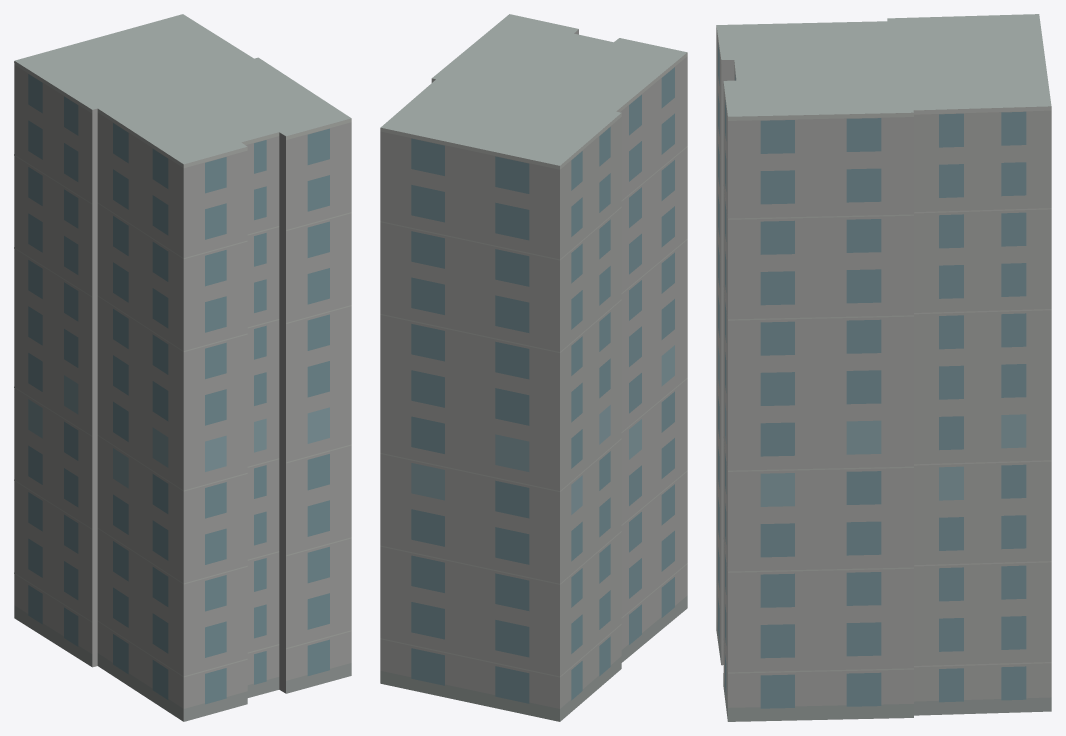
The model's file is survey-upis-32953668.glb.
3 views of the same model, side by side, from view 1: azimuth 30°, elevation 25°; view 2: azimuth 150°, elevation 25°; view 3: azimuth 270°, elevation 25° (orthographic). The views are drawn at different scales.
Visible parts, largest first — view 1: survey-upis-32953668.tmp; view 2: survey-upis-32953668.tmp; view 3: survey-upis-32953668.tmp.
Part boxes in pixels (<box>): survey-upis-32953668.tmp: <box>14,14,351,721</box>; survey-upis-32953668.tmp: <box>380,14,687,721</box>; survey-upis-32953668.tmp: <box>716,14,1051,721</box>.
Bounding box in the file's own units: 12.74 × 34.9 × 17.54.
